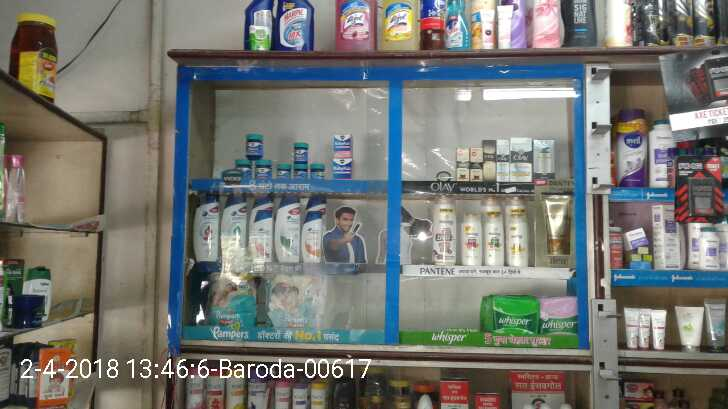vicks: (332, 156, 352, 181), (255, 158, 276, 179), (332, 134, 352, 156), (247, 129, 262, 154), (233, 158, 250, 179), (293, 141, 307, 161), (293, 161, 305, 181), (313, 162, 324, 180), (278, 161, 289, 177)
